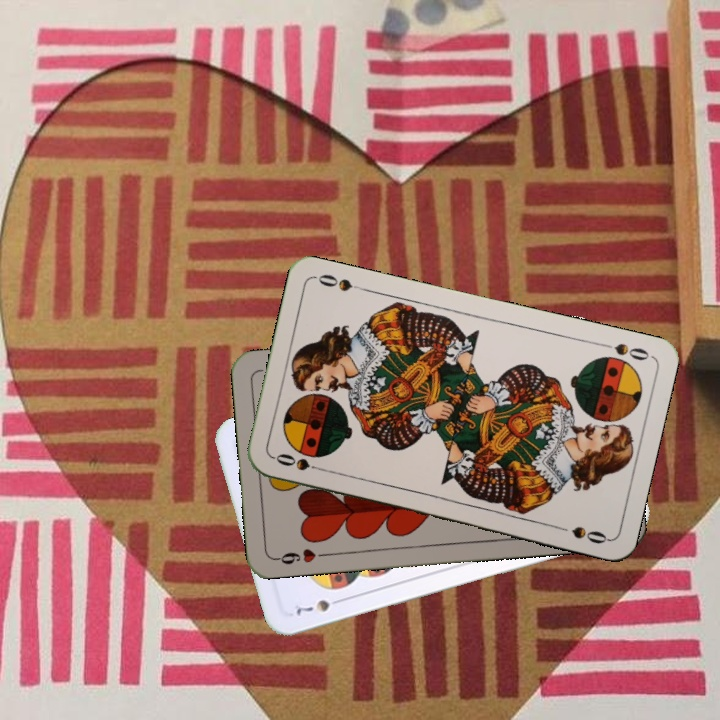H9: (271, 544, 330, 567)
S7: (292, 594, 347, 617)
SO: (270, 449, 329, 475), (595, 339, 652, 363)
